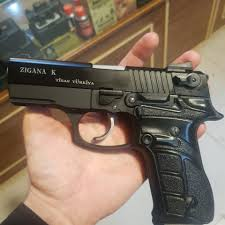Weapon: (4, 54, 220, 225)
